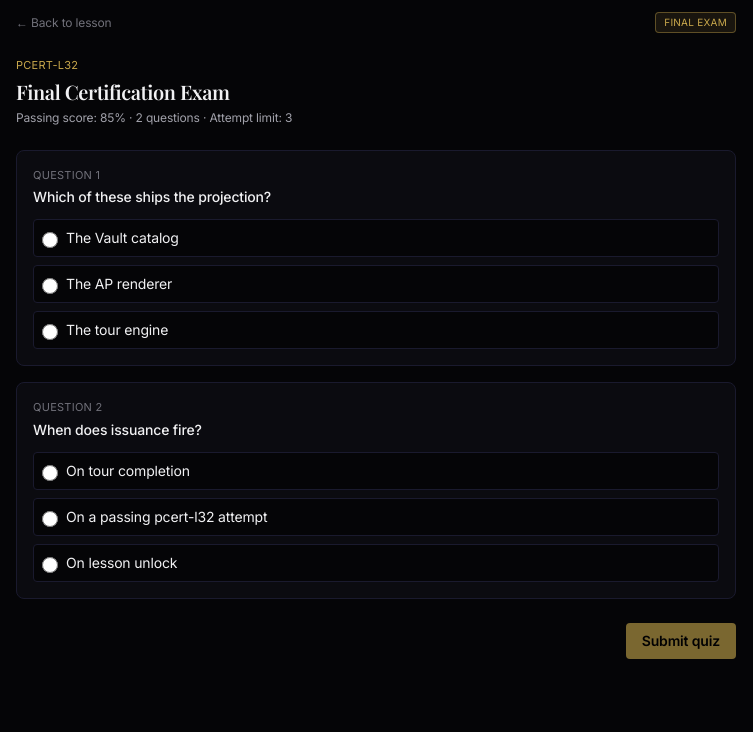
it: QuizPageClient — attempt cap reached › surfaces a friendly ceiling notice on 429 attempt_cap_reached
This screenshot has width=753, height=732.
Click the radio button labelled "The Vault catalog" at coordinates (50, 240), box [42, 232, 58, 248]
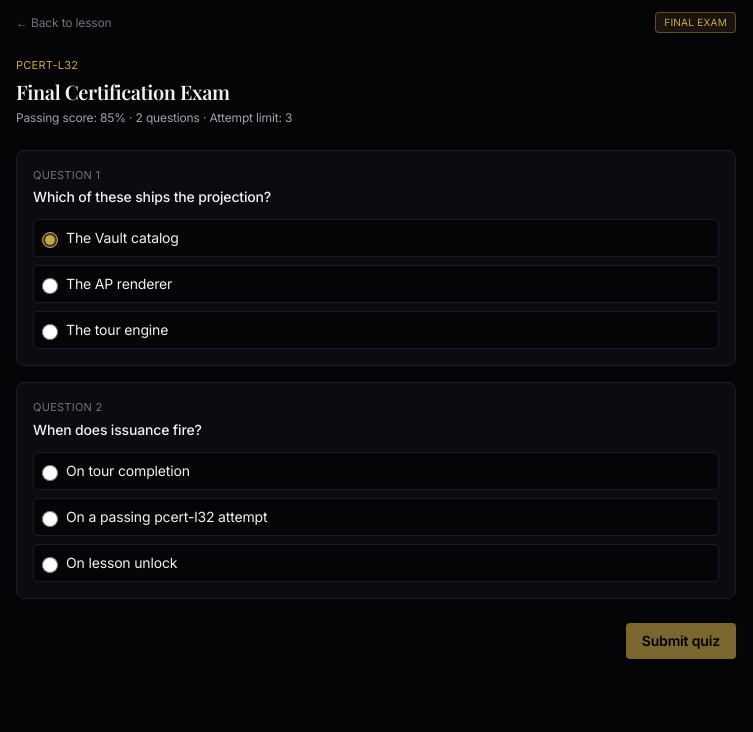
Click the radio button labelled "On a passing pcert-l32 attempt" at coordinates (50, 518), box [42, 510, 58, 526]
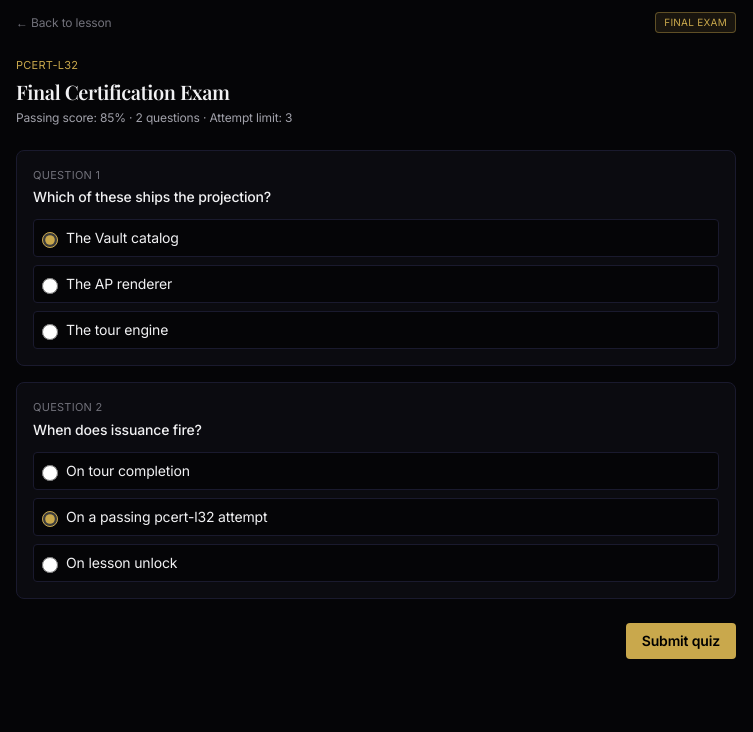
Click the button "Submit quiz" at coordinates (681, 640), box [626, 622, 736, 658]
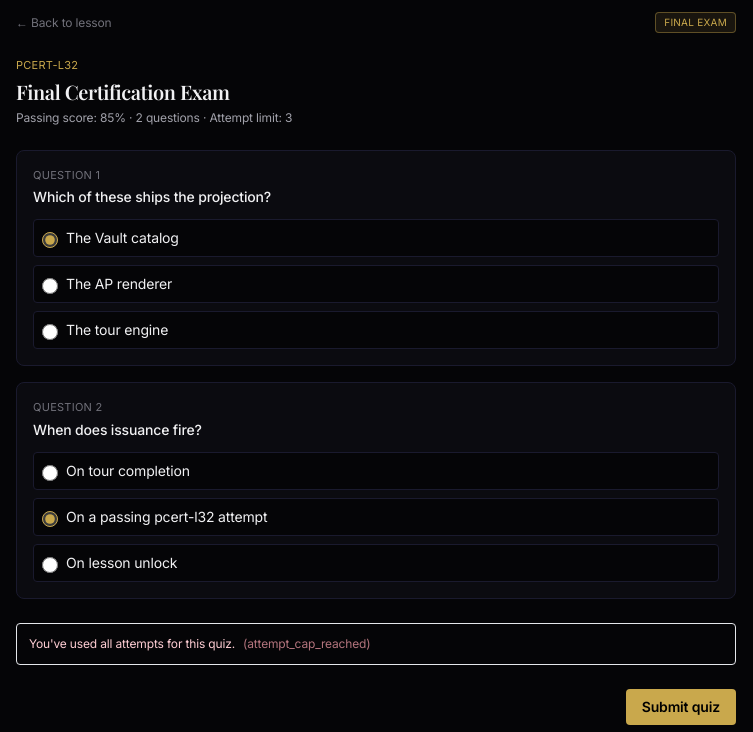
Expected: the message shows "used all attempts", [29, 636, 235, 650]
